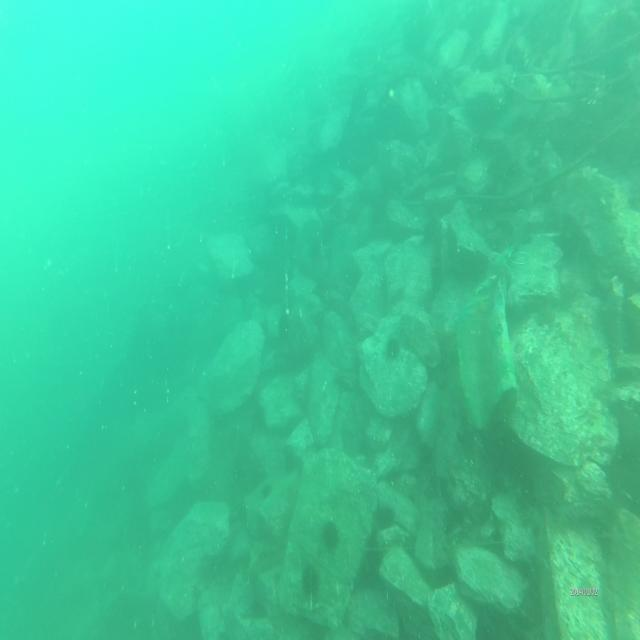echinus: (319, 516, 339, 555), (299, 564, 319, 600), (535, 295, 555, 327), (472, 44, 493, 70), (374, 499, 394, 526), (384, 338, 401, 364), (258, 483, 274, 505)
holothurian: (483, 244, 515, 283)
